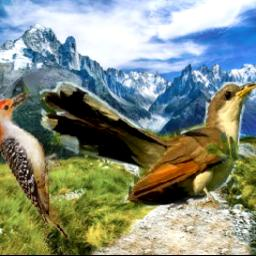Cuckoo: (40, 83, 256, 209)
Woodpecker: (0, 91, 70, 242)
